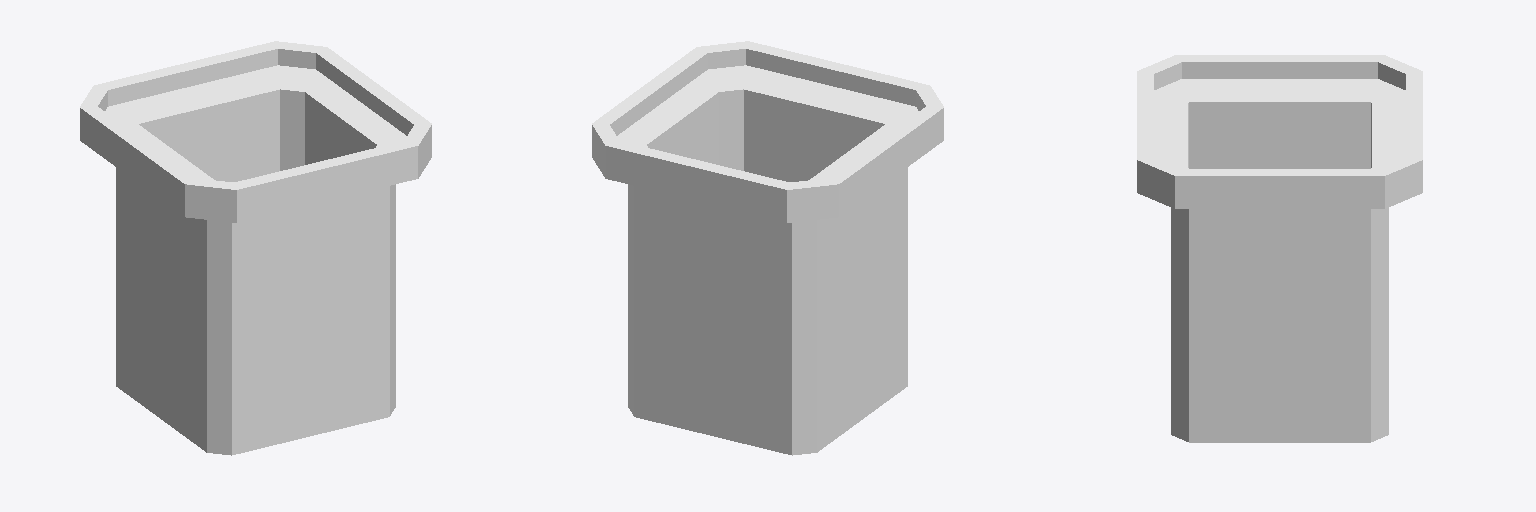
Rendered from Server-Stack-Type-2-Basement.obj.
3 renders of one model, left to right at view 1: azimuth 30°, elevation 25°; view 2: azimuth 150°, elevation 25°; view 3: azimuth 270°, elevation 25°, orthographic.
Parts seen in each view (by area): view 1: Server-Stack-Type-2-Basement; view 2: Server-Stack-Type-2-Basement; view 3: Server-Stack-Type-2-Basement.
Boxes of the visible parts, box(x1,y1,x2,y2) form: Server-Stack-Type-2-Basement: box(80, 41, 431, 455); Server-Stack-Type-2-Basement: box(592, 41, 943, 455); Server-Stack-Type-2-Basement: box(1137, 55, 1422, 442).
Bounding box in the file's own units: 1.57 × 1.7 × 1.57.